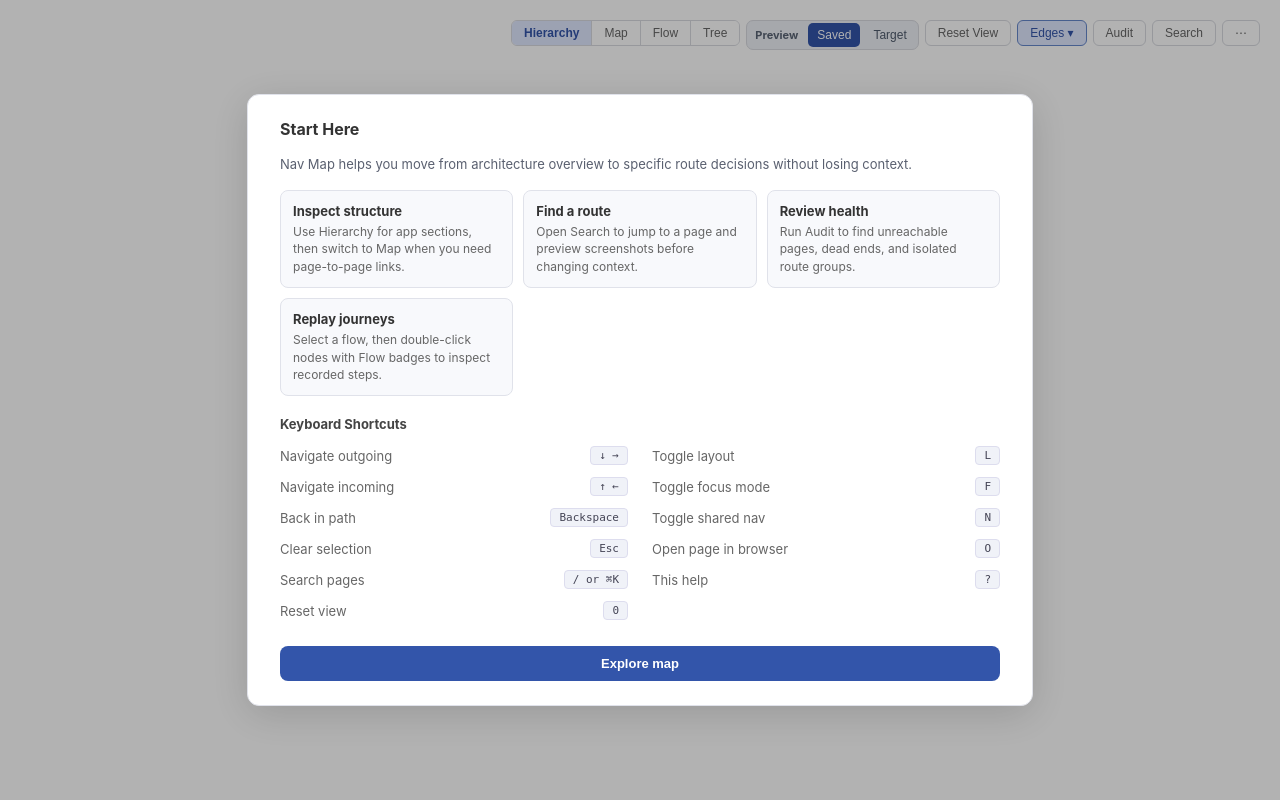
NavMap props › notifies consumers when the help overlay closes
The image size is (1280, 800).
Click the button "Explore map" at (640, 664), box x1=280 y1=646 x2=1000 y2=681
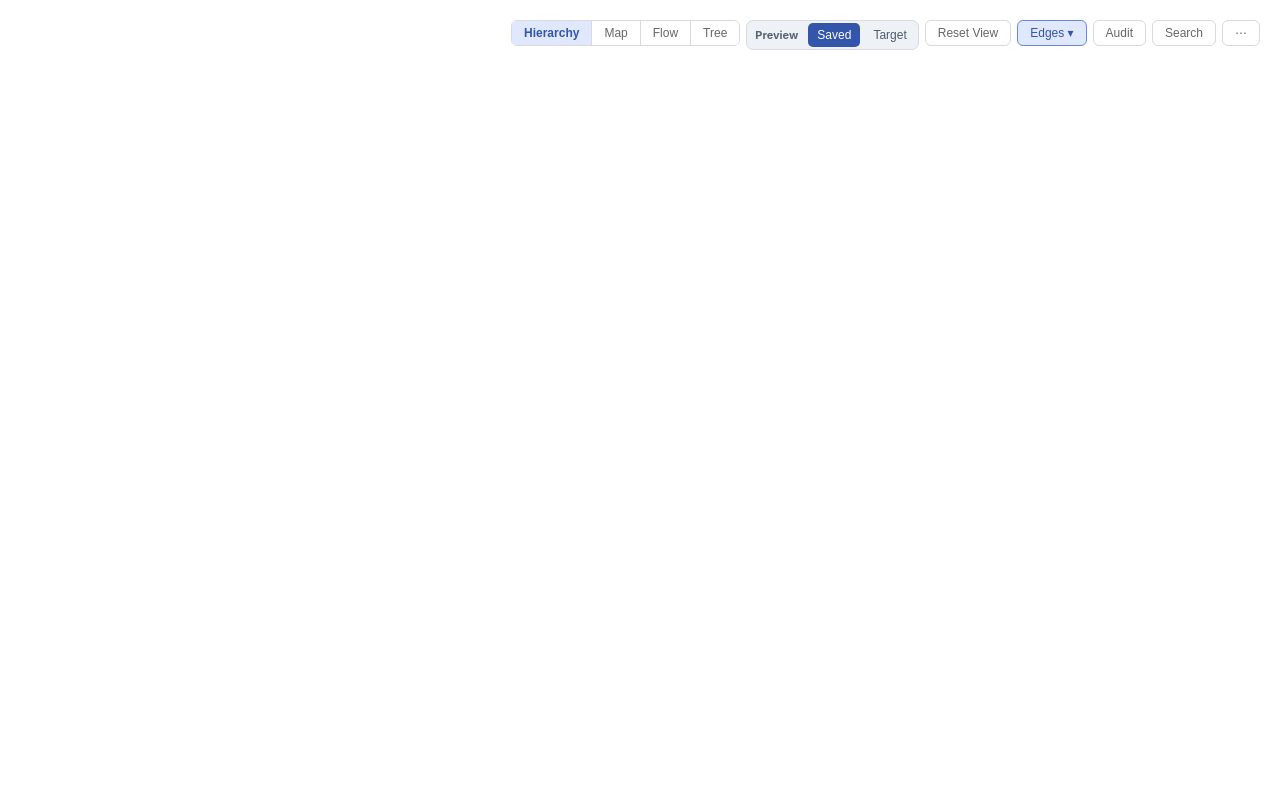
Now the heading "Start Here" is gone
